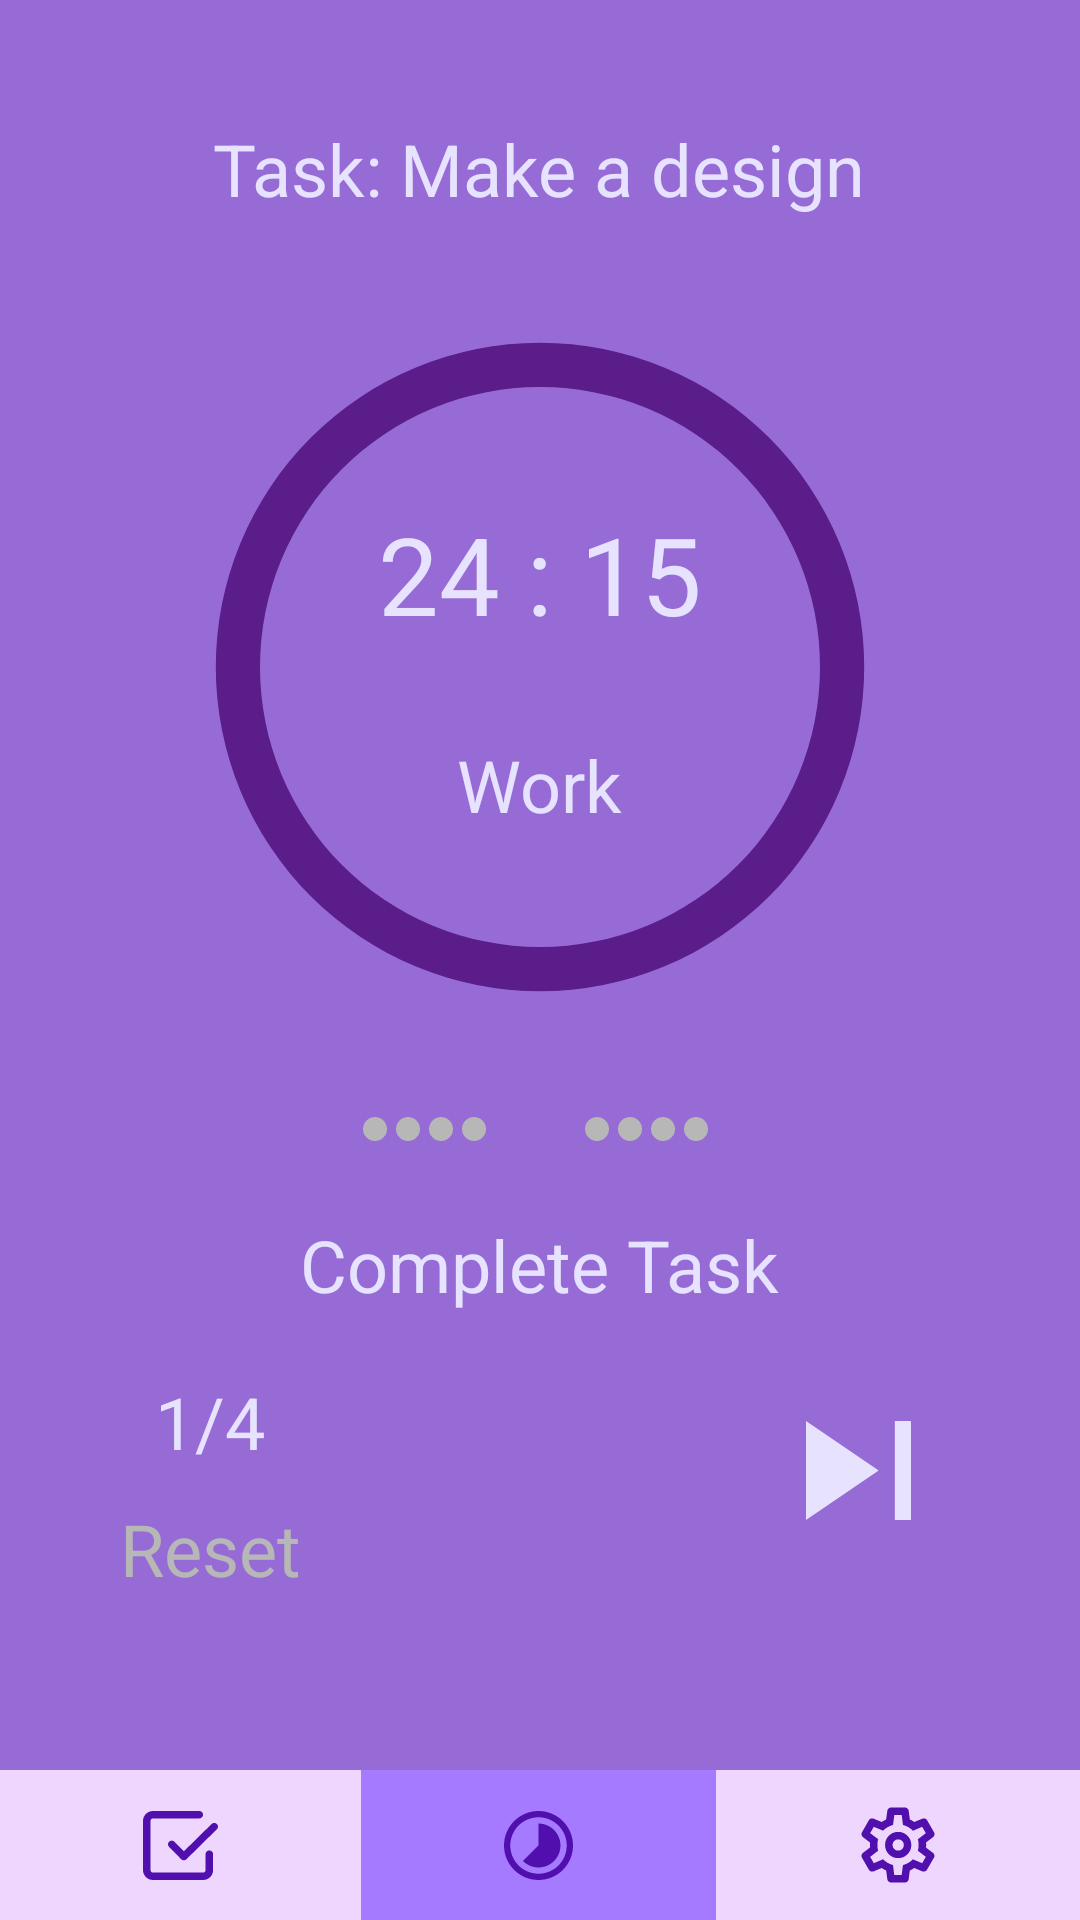

Screen size 1080×1920. Icon name, then its center in pixels as (x=x, y=y):
dot: (x=375, y=1129), (x=408, y=1129), (x=441, y=1129), (x=474, y=1129), (x=597, y=1129), (x=630, y=1129), (x=663, y=1129), (x=696, y=1129)
Skip: (x=858, y=1470)
